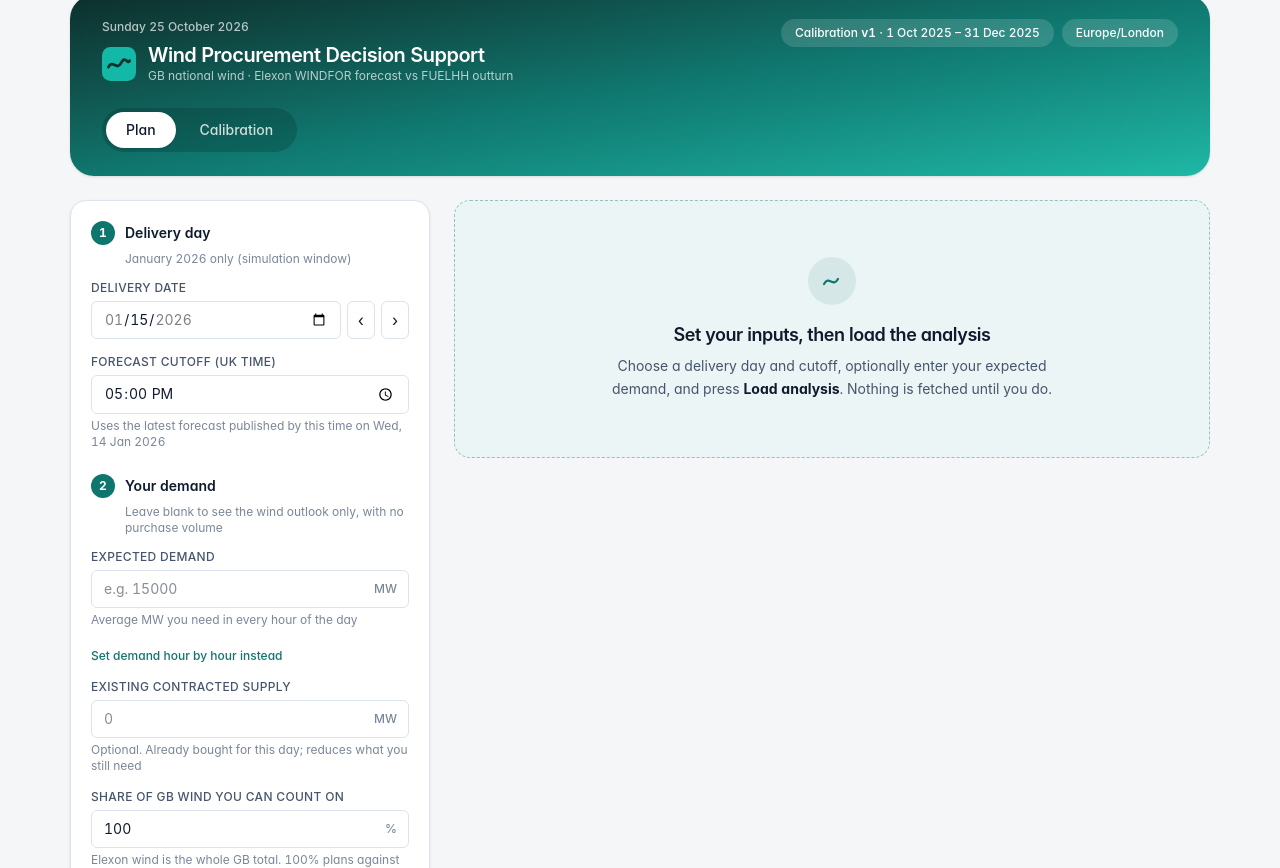
Test: Decision dashboard › validates the cutoff time format
Clear the time field labelled "Forecast cutoff (UK time)": (250,394) [91,375,409,414]
(page scrolled)
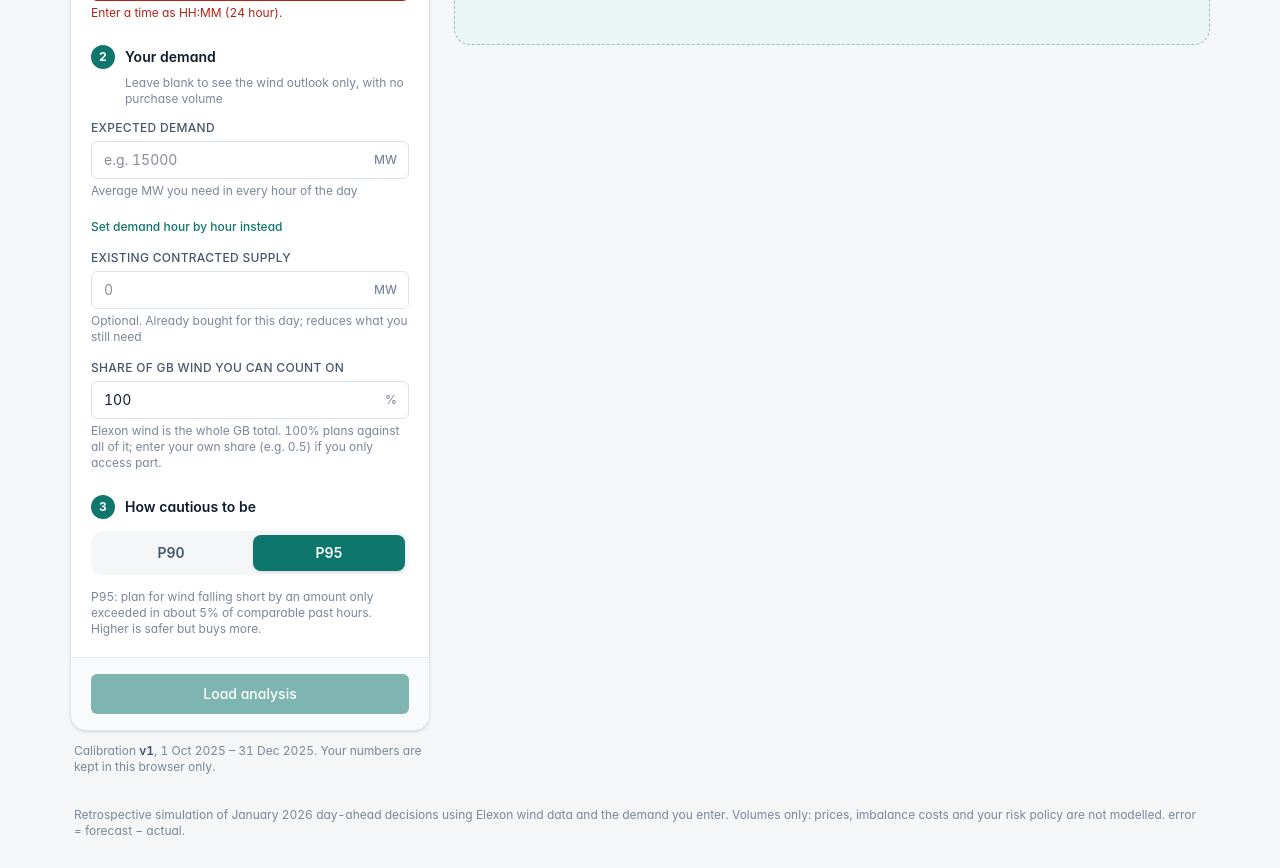
Check: the message shows "Enter a time as HH:MM", box [91,5,282,20]
Check: the button "Load analysis" is disabled, box [91,674,409,714]
